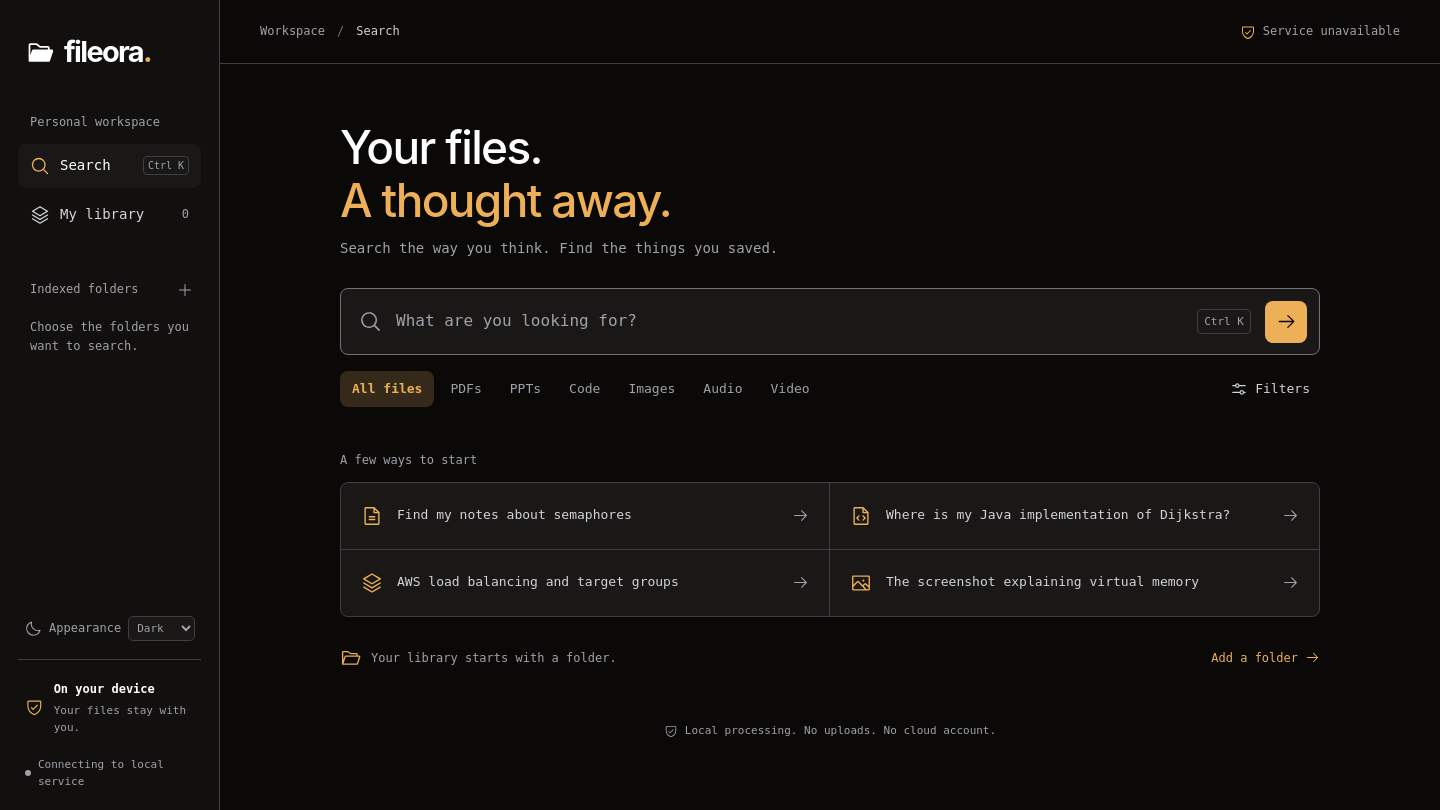
Workspace › submits a query and renders real service results
Type "semaphores" into the field named "Search your files" at (790, 322), box [396,300,1183,343]
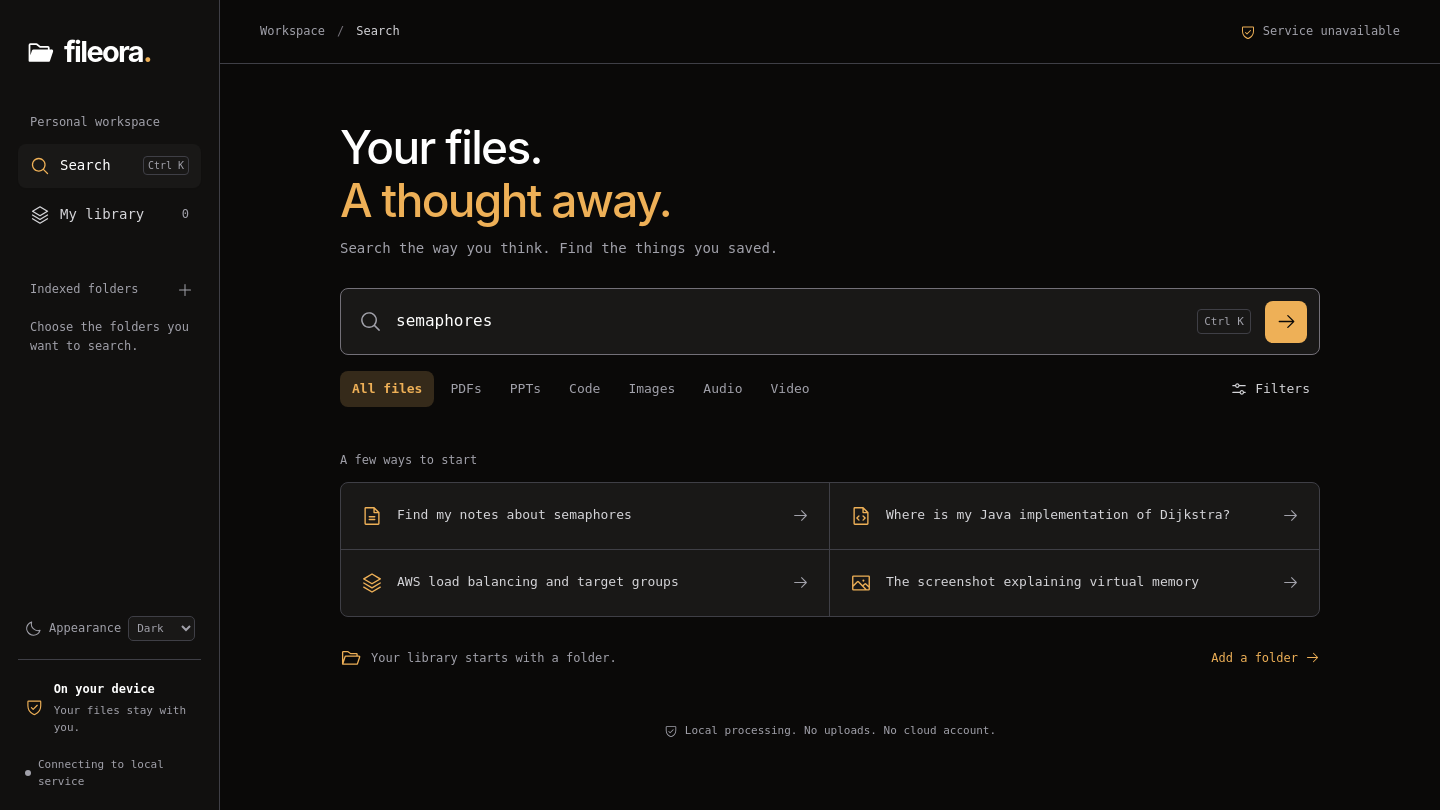
Click the button named "Run search" at (1286, 322), box [1265,300,1307,342]
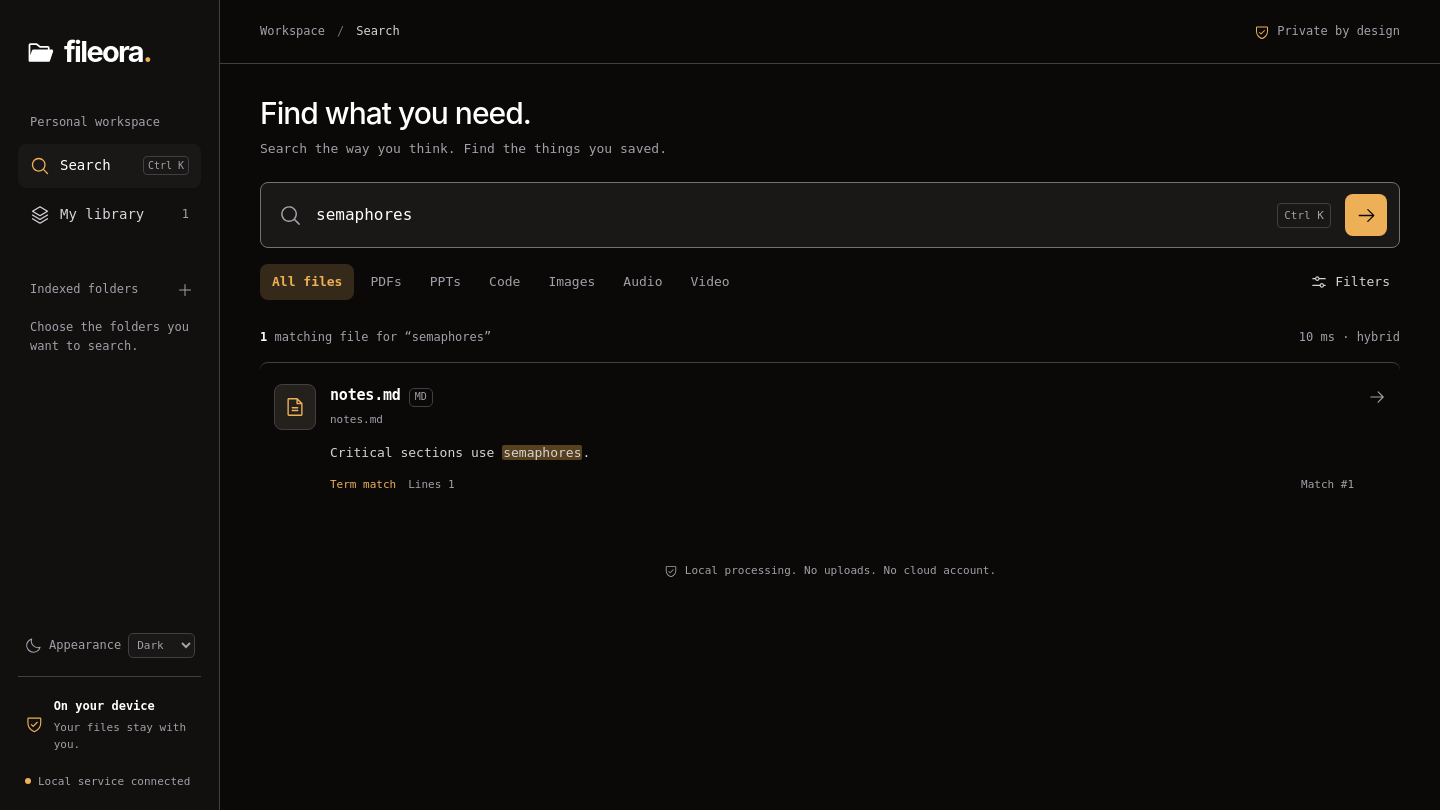
Expected: the heading "notes.md" is shown, [330,384,401,407]
Expected: the button "notes.md" shows "Critical sections use semaphores.", [260,362,1400,514]
Expected: the text "semaphores" is shown, [502,445,582,460]
